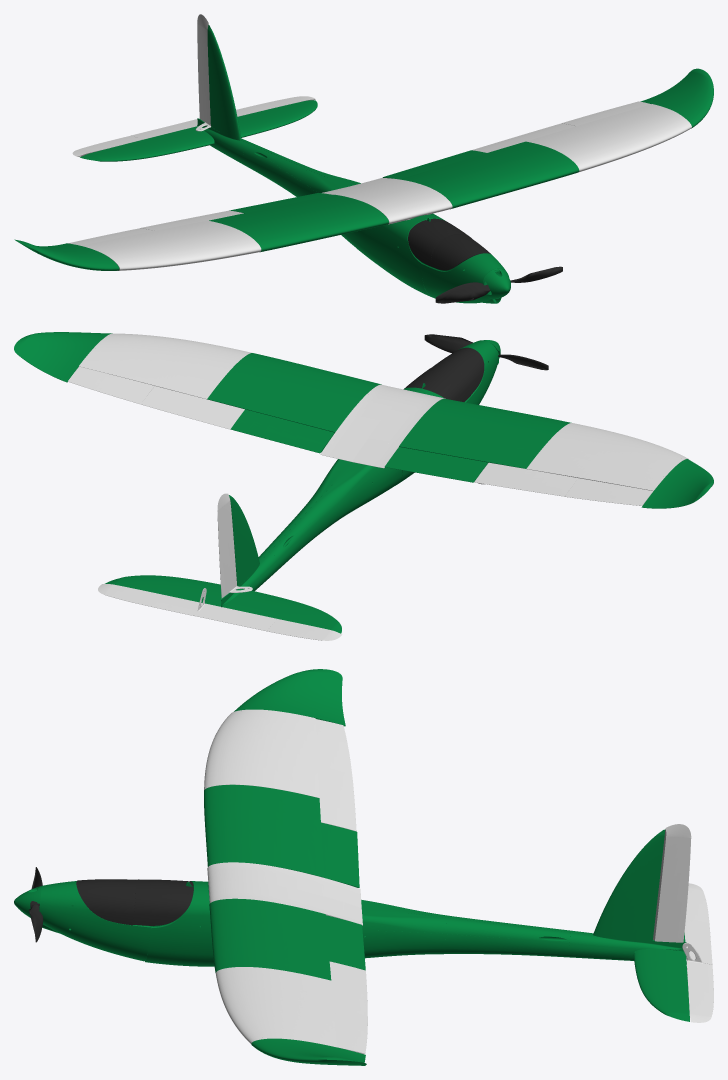
File: sae_aero-transformed.glb
3 views of the same model, one above another, from view 1: azimuth 30°, elevation 25°; view 2: azimuth 150°, elevation 25°; view 3: azimuth 270°, elevation 25° (orthographic). The views are drawn at different scales.
Visible parts, largest first — view 1: Servo_holder_Wing.001, Servo_holder_Wing, Wing2L, Wing2R, Fus2_wo_LG, Wing_C, Canopy_2, HTP_R, VTP, Wing3L, Fus4, HTP_L (+13 smaller); view 2: Servo_holder_Wing.001, Servo_holder_Wing, Wing2L, Wing2R, Wing_C, Fus3, Wing3L, Canopy_2, Flaperon1L, HTP_R, Flaperon2L, Fus4 (+13 smaller); view 3: Servo_holder_Wing, Wing2R, Fus2_wo_LG, Servo_holder_Wing.001, Wing2L, Wing_C, Canopy_2, VTP, Fus4, Fus3, Wing3R, Rudder (+11 smaller).
Part boxes in pixels (<box>): Servo_holder_Wing.001: <box>399,141,579,209</box>; Servo_holder_Wing: <box>209,194,388,252</box>; Wing2L: <box>526,104,691,171</box>; Wing2R: <box>81,220,261,270</box>; Fus2_wo_LG: <box>350,213,509,303</box>; Wing_C: <box>322,178,452,224</box>; Canopy_2: <box>408,218,491,270</box>; HTP_R: <box>80,126,214,161</box>; VTP: <box>207,25,241,140</box>; Wing3L: <box>640,68,713,128</box>; Fus4: <box>243,144,315,196</box>; HTP_L: <box>237,100,317,137</box>; Servo_holder_Wing.001: <box>207,353,381,432</box>; Servo_holder_Wing: <box>399,398,571,468</box>; Wing2L: <box>79,333,251,399</box>; Wing2R: <box>526,423,688,490</box>; Wing_C: <box>320,384,445,468</box>; Fus3: <box>310,459,402,524</box>; Wing3L: <box>14,332,112,382</box>; Canopy_2: <box>404,347,484,401</box>; Flaperon1L: <box>230,409,334,453</box>; HTP_R: <box>222,591,341,633</box>; Flaperon2L: <box>141,386,244,429</box>; Fus4: <box>263,497,334,570</box>; Servo_holder_Wing: <box>204,784,323,877</box>; Wing2R: <box>204,709,319,797</box>; Fus2_wo_LG: <box>37,881,214,966</box>; Servo_holder_Wing.001: <box>209,898,331,980</box>; Wing2L: <box>215,967,336,1047</box>; Wing_C: <box>207,862,362,925</box>; Canopy_2: <box>76,879,193,925</box>; VTP: <box>593,829,665,940</box>; Fus4: <box>440,915,570,957</box>; Fus3: <box>361,900,443,958</box>; Wing3R: <box>234,669,345,726</box>; Rudder: <box>653,824,691,942</box>.
Bounding box in the file's own units: 9.95 × 1.65 × 7.65.
